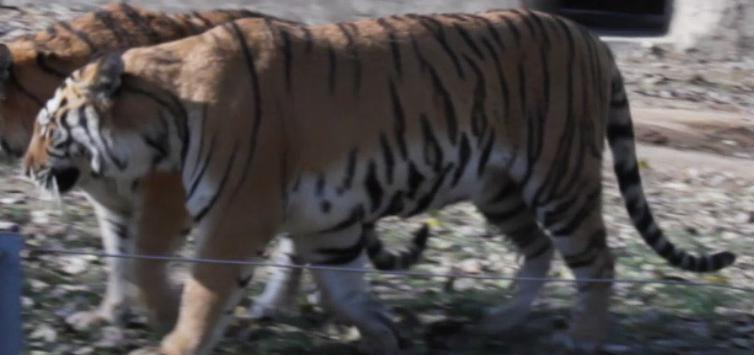tiger: (25, 10, 733, 343), (126, 258, 252, 354)
